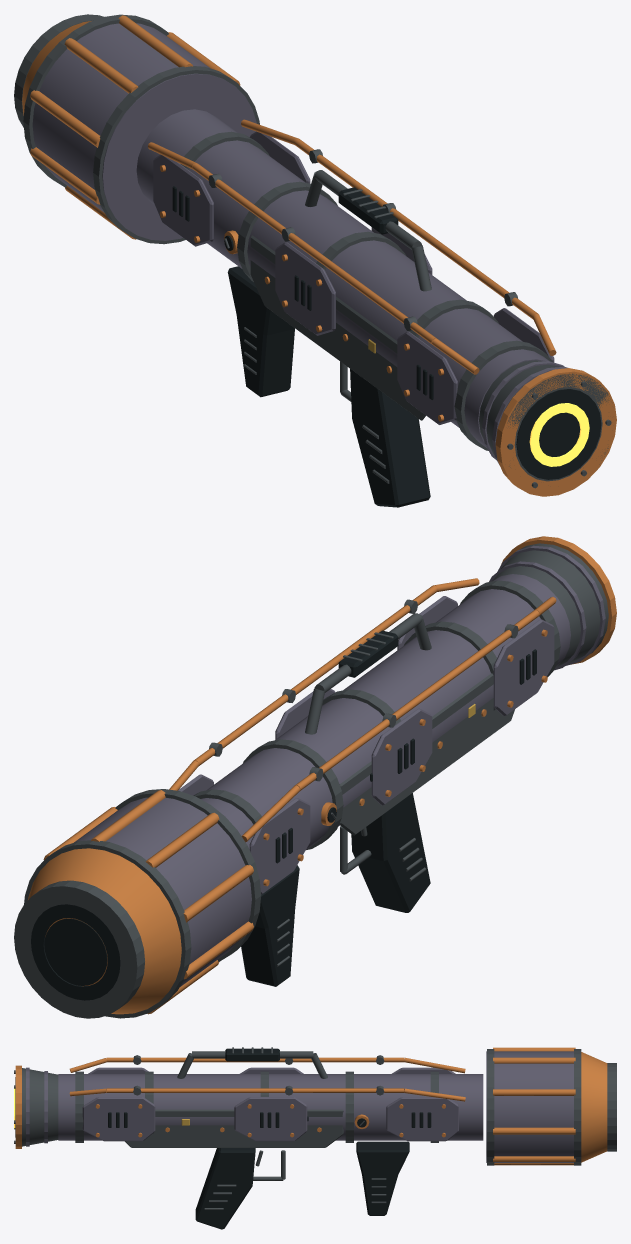
Rendered from heavy_4.glb.
3 views of the same model, one above another, from view 1: azimuth 30°, elevation 25°; view 2: azimuth 150°, elevation 25°; view 3: azimuth 270°, elevation 25° (orthographic). The views are drawn at different scales.
Visible parts, largest first — view 1: Weapon_heavy_v1; view 2: Weapon_heavy_v1; view 3: Weapon_heavy_v1.
Part boxes in pixels (bbox=[...]): Weapon_heavy_v1: bbox=[14, 14, 616, 507]; Weapon_heavy_v1: bbox=[14, 536, 616, 1018]; Weapon_heavy_v1: bbox=[14, 1047, 616, 1229].
Bounding box in the file's own units: 0.195 × 0.318 × 0.993.
